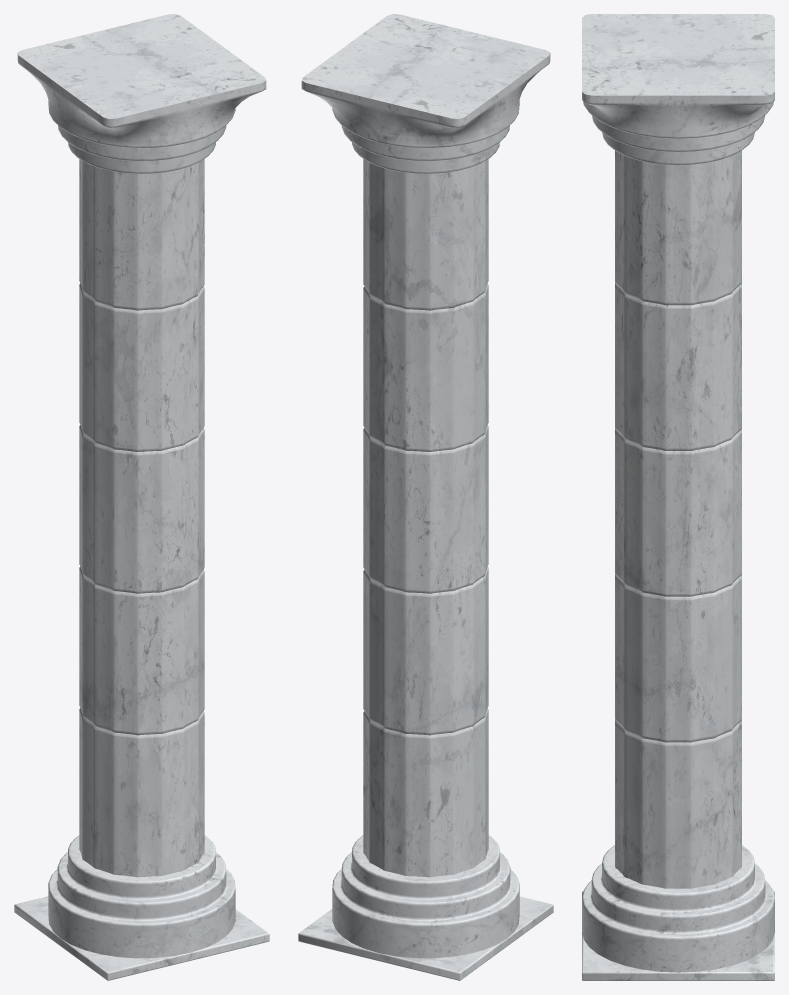
File: generic_stone_pillar.glb
3 views of the same model, side by side, from view 1: azimuth 30°, elevation 25°; view 2: azimuth 150°, elevation 25°; view 3: azimuth 270°, elevation 25° (orthographic). The views are drawn at different scales.
Parts seen in each view (by area): view 1: Generic_Marble_Pillar; view 2: Generic_Marble_Pillar; view 3: Generic_Marble_Pillar.
Part boxes in pixels (x1,y1,x2,y2): Generic_Marble_Pillar: (14, 14, 269, 980); Generic_Marble_Pillar: (298, 14, 553, 980); Generic_Marble_Pillar: (582, 14, 774, 980).
Bounding box in the file's own units: 1 × 5.07 × 1.
1 material, 1 textured.
